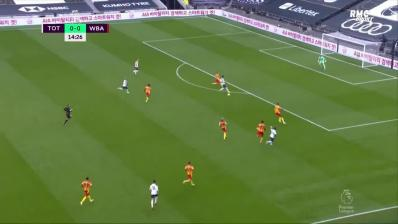football: (226, 92, 232, 97)
player: (78, 176, 96, 208), (146, 178, 162, 212), (272, 102, 288, 126), (181, 160, 195, 187), (265, 126, 279, 148), (254, 120, 266, 145), (218, 117, 230, 141), (219, 75, 232, 95), (141, 83, 153, 104), (117, 77, 130, 94), (317, 54, 329, 72), (131, 58, 142, 75), (213, 70, 220, 88)
referee: (62, 103, 75, 126)
